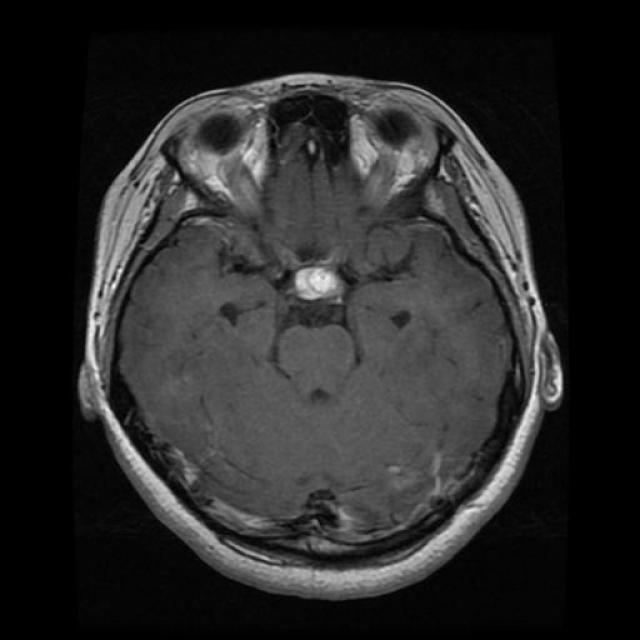pituitary: (264, 236, 350, 328)
